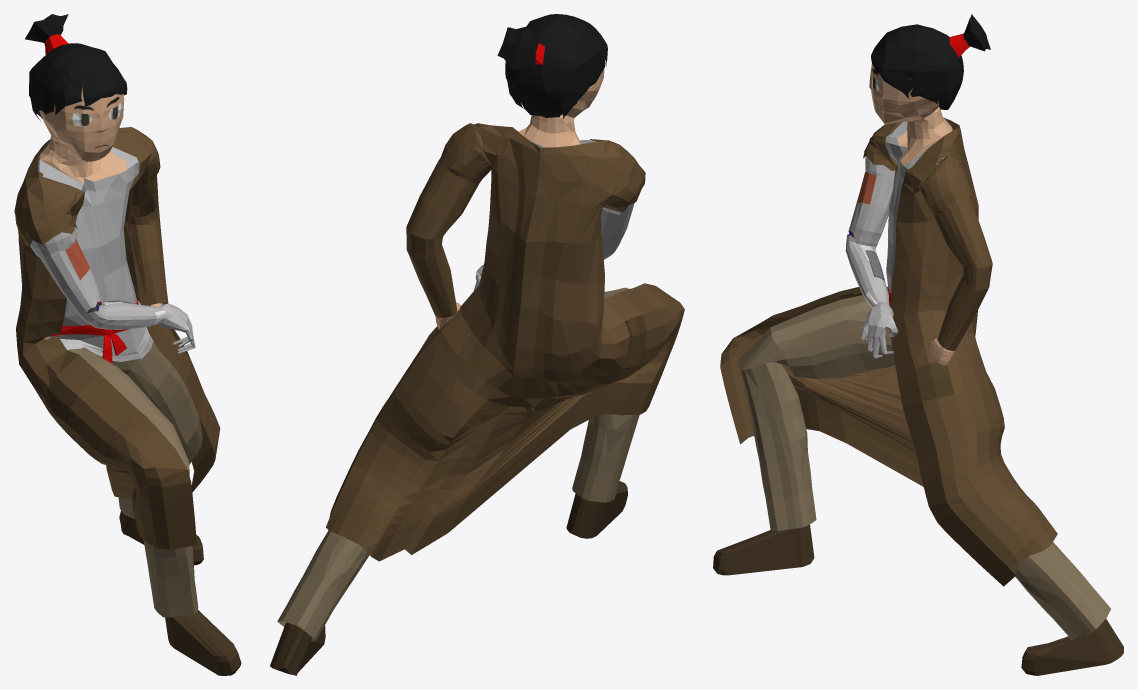
File: One_RL_000017.obj
3 renders of one model, left to right at view 1: azimuth 30°, elevation 25°; view 2: azimuth 150°, elevation 25°; view 3: azimuth 270°, elevation 25°, orthographic. The views are drawn at different scales.
Parts seen in each view (by area): view 1: Hair_Cube.004; view 2: Hair_Cube.004; view 3: Hair_Cube.004.
Part boxes in pixels (bbox=[...]): Hair_Cube.004: bbox=[14, 14, 241, 675]; Hair_Cube.004: bbox=[270, 14, 684, 675]; Hair_Cube.004: bbox=[713, 14, 1123, 675].
Size of the model in its own units: 1.5 by 3.48 by 2.25.
